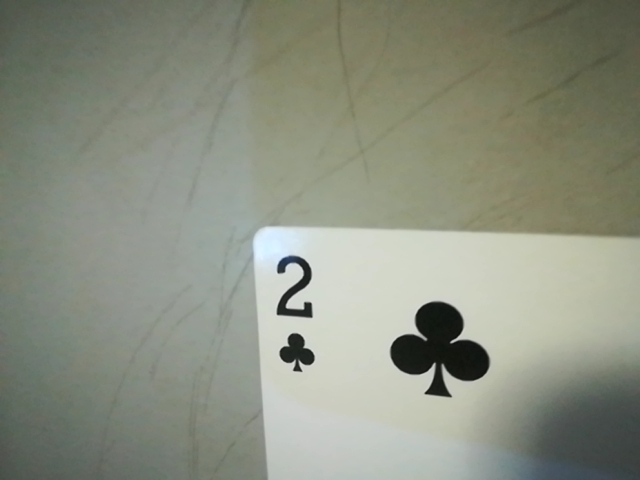mh 2: (260, 243, 329, 380)
